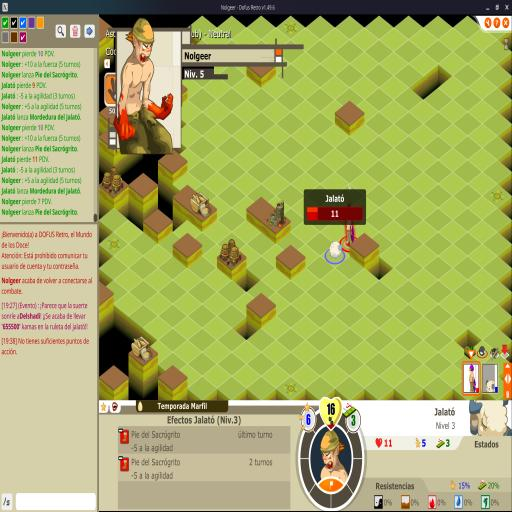Enemigos: (329, 240, 343, 260)
Personaje: (344, 204, 356, 248)
